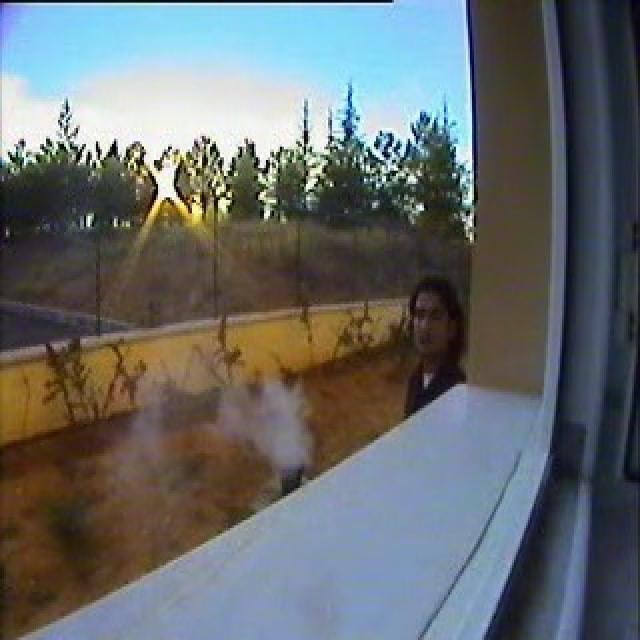Smoke: (218, 378, 314, 466), (114, 409, 161, 480)
